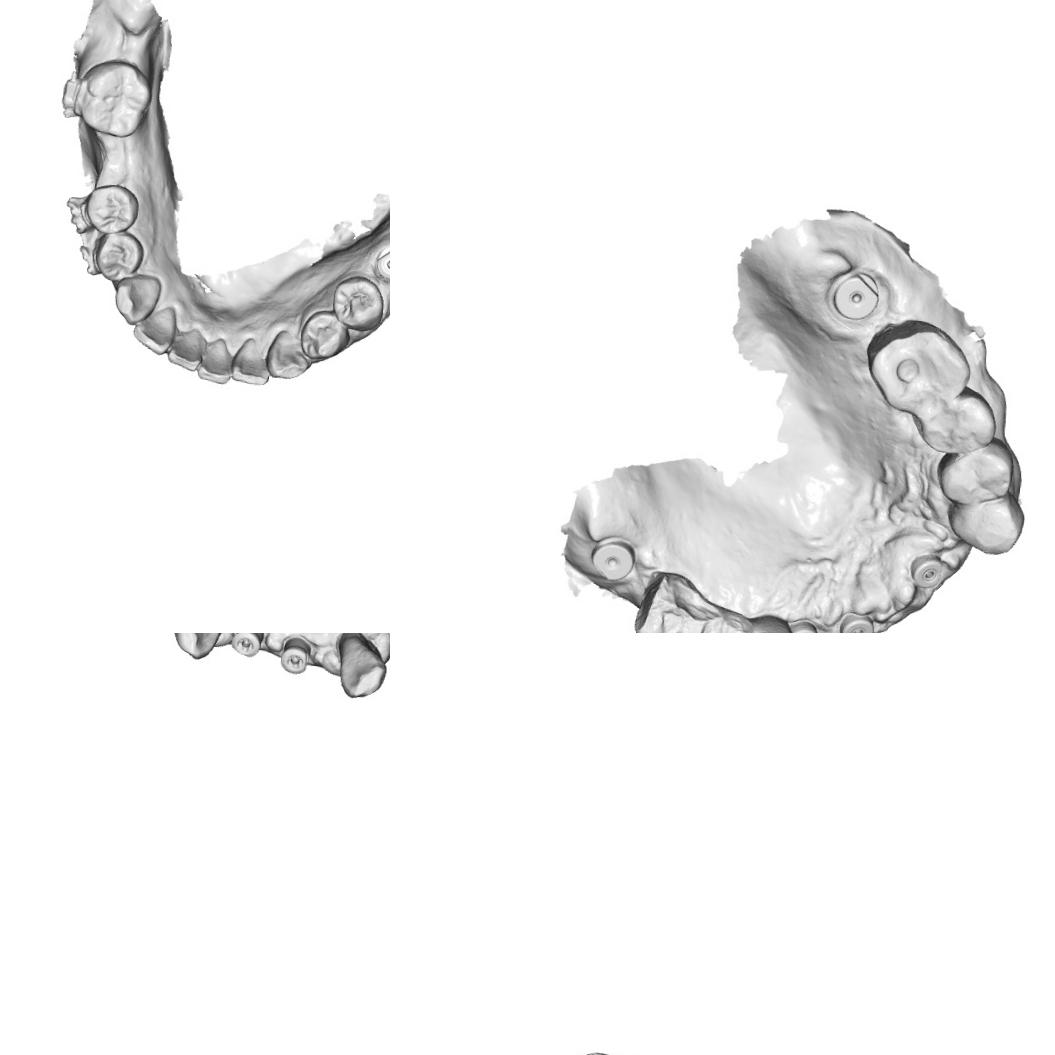canine: (944, 495, 1024, 556), (333, 633, 390, 701), (112, 271, 162, 326), (263, 328, 312, 380), (170, 633, 235, 662)
implant: (828, 268, 882, 322), (588, 532, 638, 582), (909, 553, 946, 588), (370, 241, 390, 284), (838, 610, 874, 633), (789, 616, 821, 633)
implant_plus: (277, 633, 313, 676), (229, 633, 265, 659)
incisor: (129, 302, 178, 356), (229, 334, 272, 386), (194, 334, 236, 386), (166, 326, 204, 371)
molar: (861, 314, 974, 418), (72, 57, 154, 141), (629, 568, 710, 633)
premolar: (935, 435, 1017, 509), (920, 384, 999, 456), (328, 272, 386, 334), (82, 180, 142, 236), (297, 306, 352, 362), (92, 227, 146, 284), (695, 603, 755, 633), (743, 614, 801, 633)
